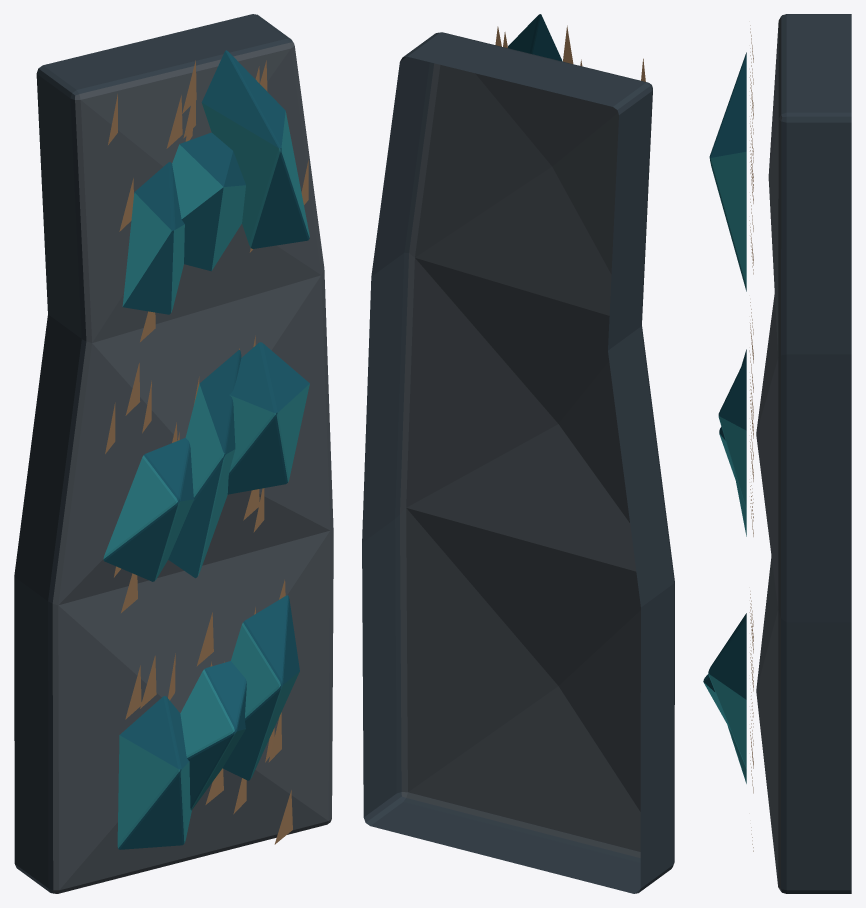
File: Board_blade.fbx
3 renders of one model, left to right at view 1: azimuth 30°, elevation 25°; view 2: azimuth 150°, elevation 25°; view 3: azimuth 270°, elevation 25°, orthographic. The views are drawn at different scales.
Visible parts, largest first — view 1: Art_blade_stone, Art_blade_mineral_0_2, Art_blade_mineral_2_0, Art_blade_mineral_1_2, Art_blade_mineral_1_0, Art_blade_mineral_1_1, Art_blade_mineral_2_2, Art_blade_mineral_0_1, Art_blade_mineral_0_0, Art_blade_mineral_2_1; view 2: Art_blade_stone, Art_blade_mineral_0_2; view 3: Art_blade_stone, Art_blade_mineral_0_2, Art_blade_mineral_2_2, Art_blade_mineral_1_2.
Part boxes in pixels (bbox=[...]): Art_blade_stone: bbox=[14, 14, 333, 893]; Art_blade_mineral_0_2: bbox=[201, 50, 309, 248]; Art_blade_mineral_2_0: bbox=[117, 696, 191, 849]; Art_blade_mineral_1_2: bbox=[227, 342, 309, 494]; Art_blade_mineral_1_0: bbox=[103, 438, 194, 581]; Art_blade_mineral_1_1: bbox=[168, 350, 241, 578]; Art_blade_mineral_2_2: bbox=[223, 595, 299, 780]; Art_blade_mineral_0_1: bbox=[172, 132, 245, 271]; Art_blade_mineral_0_0: bbox=[122, 162, 184, 314]; Art_blade_mineral_2_1: bbox=[180, 661, 246, 810]; Art_blade_stone: bbox=[362, 32, 674, 893]; Art_blade_mineral_0_2: bbox=[508, 14, 562, 61]; Art_blade_stone: bbox=[756, 14, 851, 893]; Art_blade_mineral_0_2: bbox=[709, 52, 746, 291]; Art_blade_mineral_2_2: bbox=[708, 613, 746, 768]; Art_blade_mineral_1_2: bbox=[718, 356, 746, 509].
Bounding box in the file's own units: 111 × 307 × 52.23.
